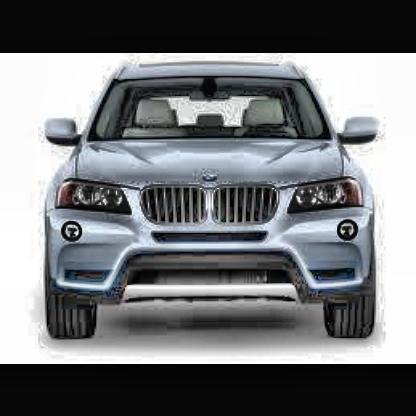BMW X3 SUV 2012: (44, 61, 384, 345)
